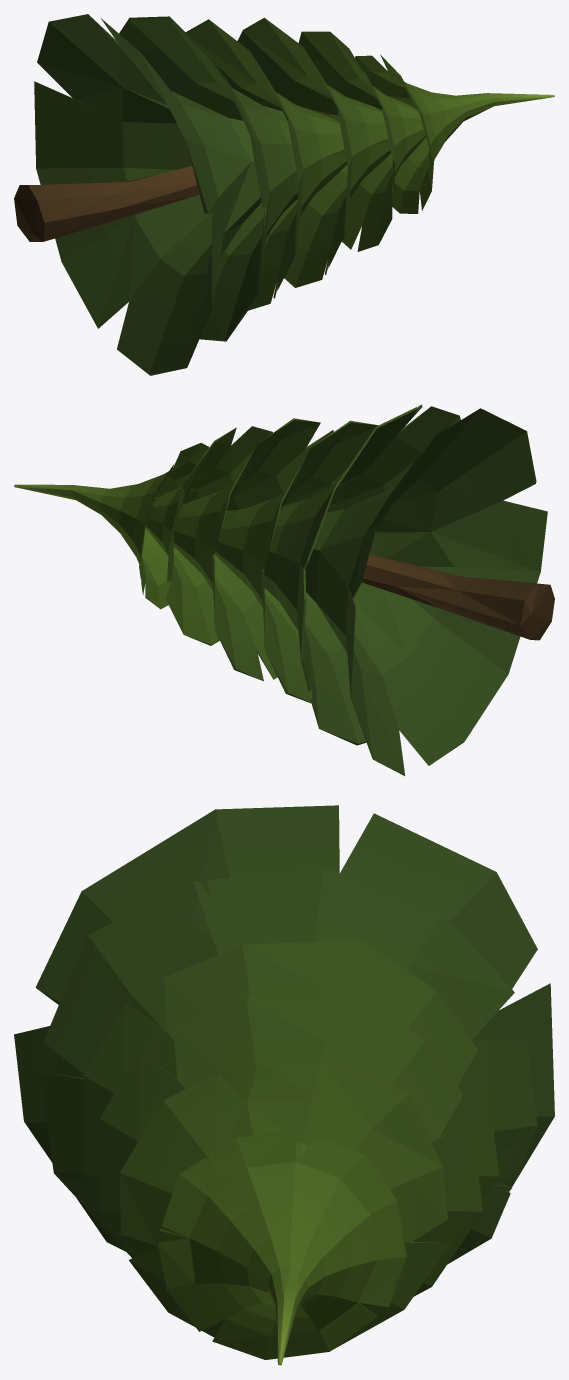
File: TreeBroke.fbx
3 views of the same model, one above another, from view 1: azimuth 30°, elevation 25°; view 2: azimuth 150°, elevation 25°; view 3: azimuth 270°, elevation 25° (orthographic). The views are drawn at different scales.
Parts seen in each view (by area): view 1: Tree_fracturepart16, Tree_fracturepart10_2, Tree_fracturepart5, Tree_fracturepart11_6, Tree_fracturepart15, Tree_fracturepart5_3, Tree_fracturepart9_4, Tree_fracturepart2, Tree_fracturepart11_4, Tree_fracturepart13, Tree_fracturepart12, Tree_fracturepart6 (+28 smaller); view 2: Tree_fracturepart10_2, Tree_fracturepart6, Tree_fracturepart11_6, Tree_fracturepart13, Tree_fracturepart7, Tree_fracturepart11_4, Tree_fracturepart18, Tree_fracturepart15, Tree_fracturepart5, Tree_fracturepart14_2, Tree_fracturepart1_4, Tree_fracturepart11 (+32 smaller); view 3: Tree_fracturepart11_6, Tree_fracturepart5, Tree_fracturepart5_3, Tree_fracturepart17_3, Tree_fracturepart17_2, Tree_fracturepart7_2, Tree_fracturepart2, Tree_fracturepart2_2, Tree_fracturepart5_2, Tree_fracturepart11_4, Tree_fracturepart9, Tree_fracturepart18 (+18 smaller).
Boxes of the visible parts, <box> form: Tree_fracturepart16: <box>34,81,203,242</box>; Tree_fracturepart10_2: <box>74,210,212,375</box>; Tree_fracturepart5: <box>37,14,214,118</box>; Tree_fracturepart11_6: <box>355,54,554,213</box>; Tree_fracturepart15: <box>14,183,100,241</box>; Tree_fracturepart5_3: <box>119,16,238,97</box>; Tree_fracturepart9_4: <box>246,69,344,217</box>; Tree_fracturepart2: <box>239,17,351,108</box>; Tree_fracturepart11_4: <box>314,64,425,227</box>; Tree_fracturepart13: <box>196,115,250,269</box>; Tree_fracturepart12: <box>297,191,351,283</box>; Tree_fracturepart6: <box>151,242,219,375</box>; Tree_fracturepart10_2: <box>354,617,466,775</box>; Tree_fracturepart6: <box>444,519,546,737</box>; Tree_fracturepart11_6: <box>14,445,194,609</box>; Tree_fracturepart13: <box>377,488,486,576</box>; Tree_fracturepart7: <box>409,412,500,544</box>; Tree_fracturepart11_4: <box>145,460,220,645</box>; Tree_fracturepart18: <box>487,412,547,532</box>; Tree_fracturepart15: <box>460,578,554,640</box>; Tree_fracturepart5: <box>348,408,487,587</box>; Tree_fracturepart14_2: <box>383,592,451,691</box>; Tree_fracturepart1_4: <box>265,496,319,618</box>; Tree_fracturepart11: <box>173,485,242,606</box>; Tree_fracturepart11_6: <box>236,1128,406,1365</box>; Tree_fracturepart5: <box>194,805,537,977</box>; Tree_fracturepart5_3: <box>193,867,498,993</box>; Tree_fracturepart17_3: <box>157,1135,252,1349</box>; Tree_fracturepart17_2: <box>119,1073,252,1327</box>; Tree_fracturepart7_2: <box>50,897,199,1064</box>; Tree_fracturepart2: <box>273,993,437,1140</box>; Tree_fracturepart2_2: <box>247,1060,435,1150</box>; Tree_fracturepart5_2: <box>186,940,437,1010</box>; Tree_fracturepart11_4: <box>252,1130,450,1349</box>; Tree_fracturepart9: <box>173,996,292,1102</box>; Tree_fracturepart18: <box>14,824,190,1061</box>.
Bounding box in the file's own units: 749 × 455 × 457.
1 material, 1 textured.
